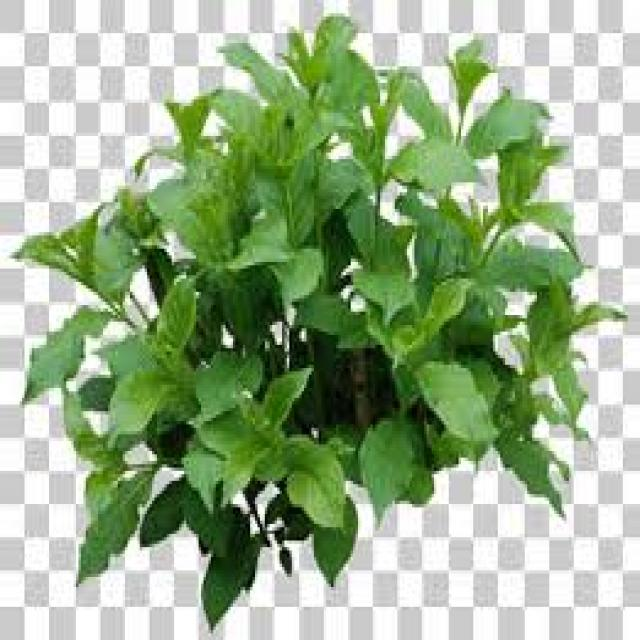organic waste: (127, 89, 356, 626), (420, 90, 626, 514), (218, 10, 375, 484), (8, 186, 186, 584), (370, 36, 493, 528)
